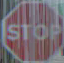Stop: (1, 5, 60, 55)
